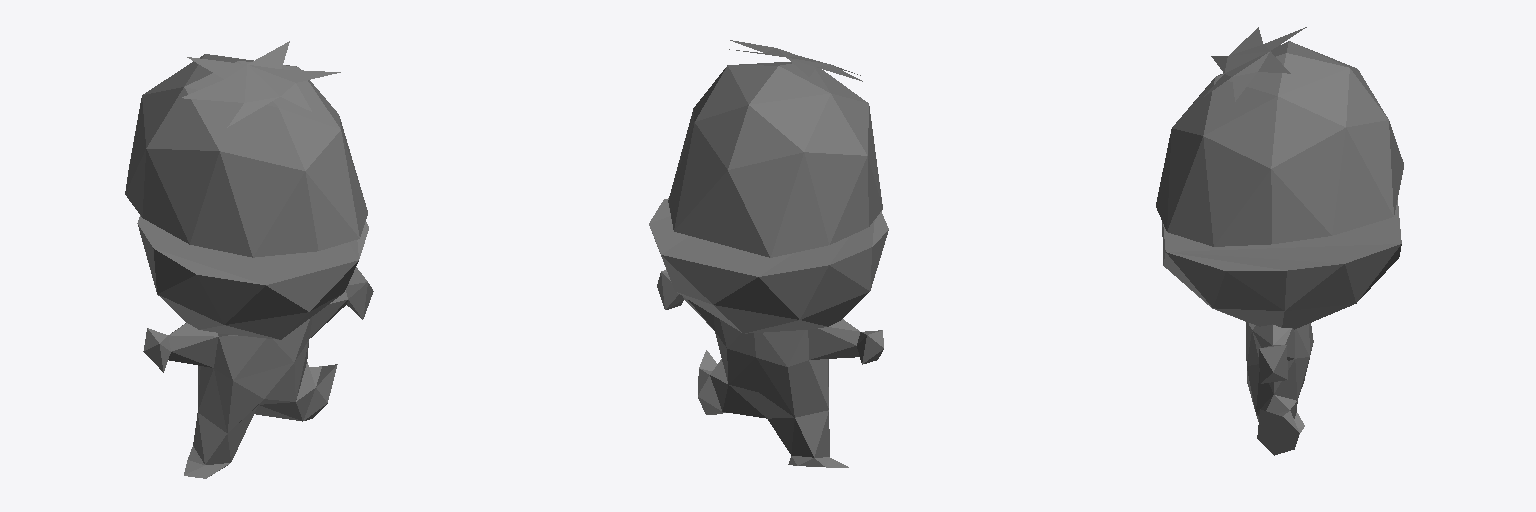
The model's file is Ike.obj.
3 views of the same model, side by side, from view 1: azimuth 30°, elevation 25°; view 2: azimuth 150°, elevation 25°; view 3: azimuth 270°, elevation 25° (orthographic).
Visible parts, largest first — view 1: DrawCall_98_mater.001; view 2: DrawCall_98_mater.001; view 3: DrawCall_98_mater.001.
Boxes of the visible parts, box(x1,y1,x2,y2) form: DrawCall_98_mater.001: box(125, 41, 373, 478); DrawCall_98_mater.001: box(649, 40, 888, 467); DrawCall_98_mater.001: box(1156, 27, 1403, 455).
Bounding box in the file's own units: 1.62 × 2.74 × 1.53.